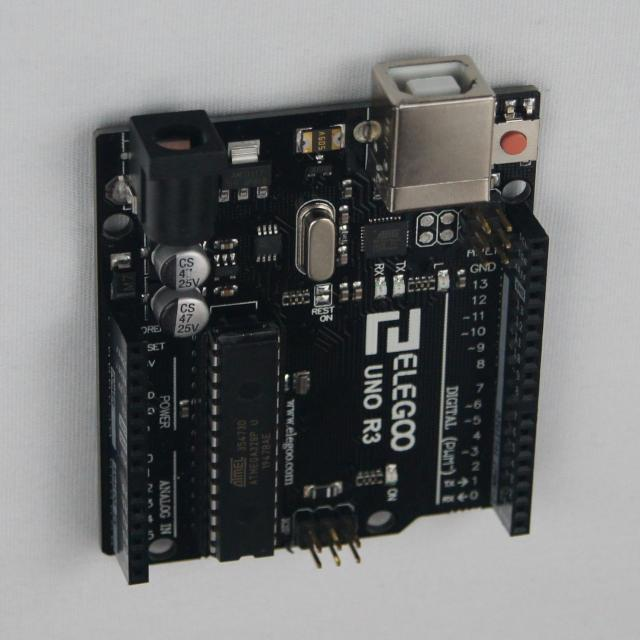Arduino Uno -Black-: (97, 57, 549, 585)
